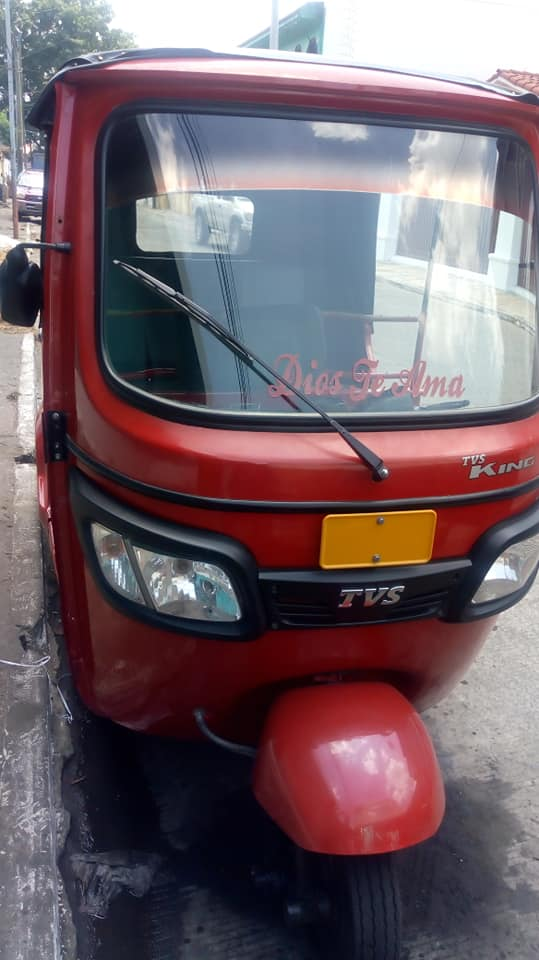mototaxi: (19, 46, 539, 948)
